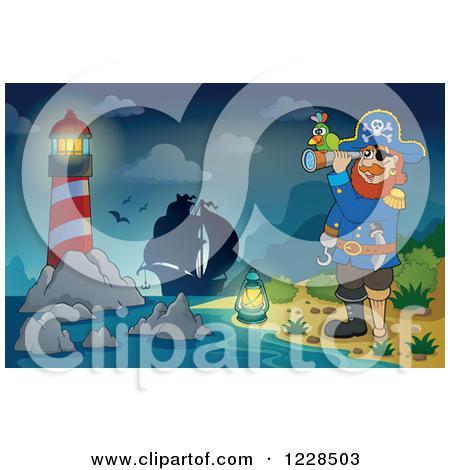bird: (301, 113, 340, 152)
boat: (134, 190, 237, 298)
person: (323, 108, 424, 336)
